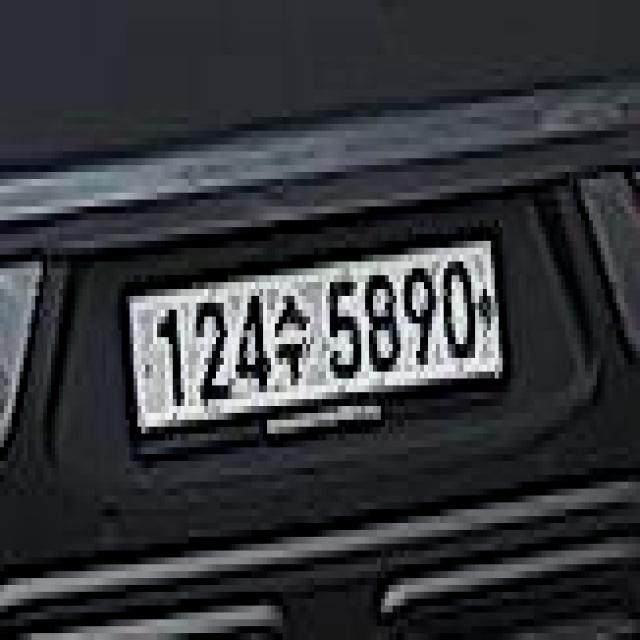illegal_plate: (122, 225, 510, 454)
